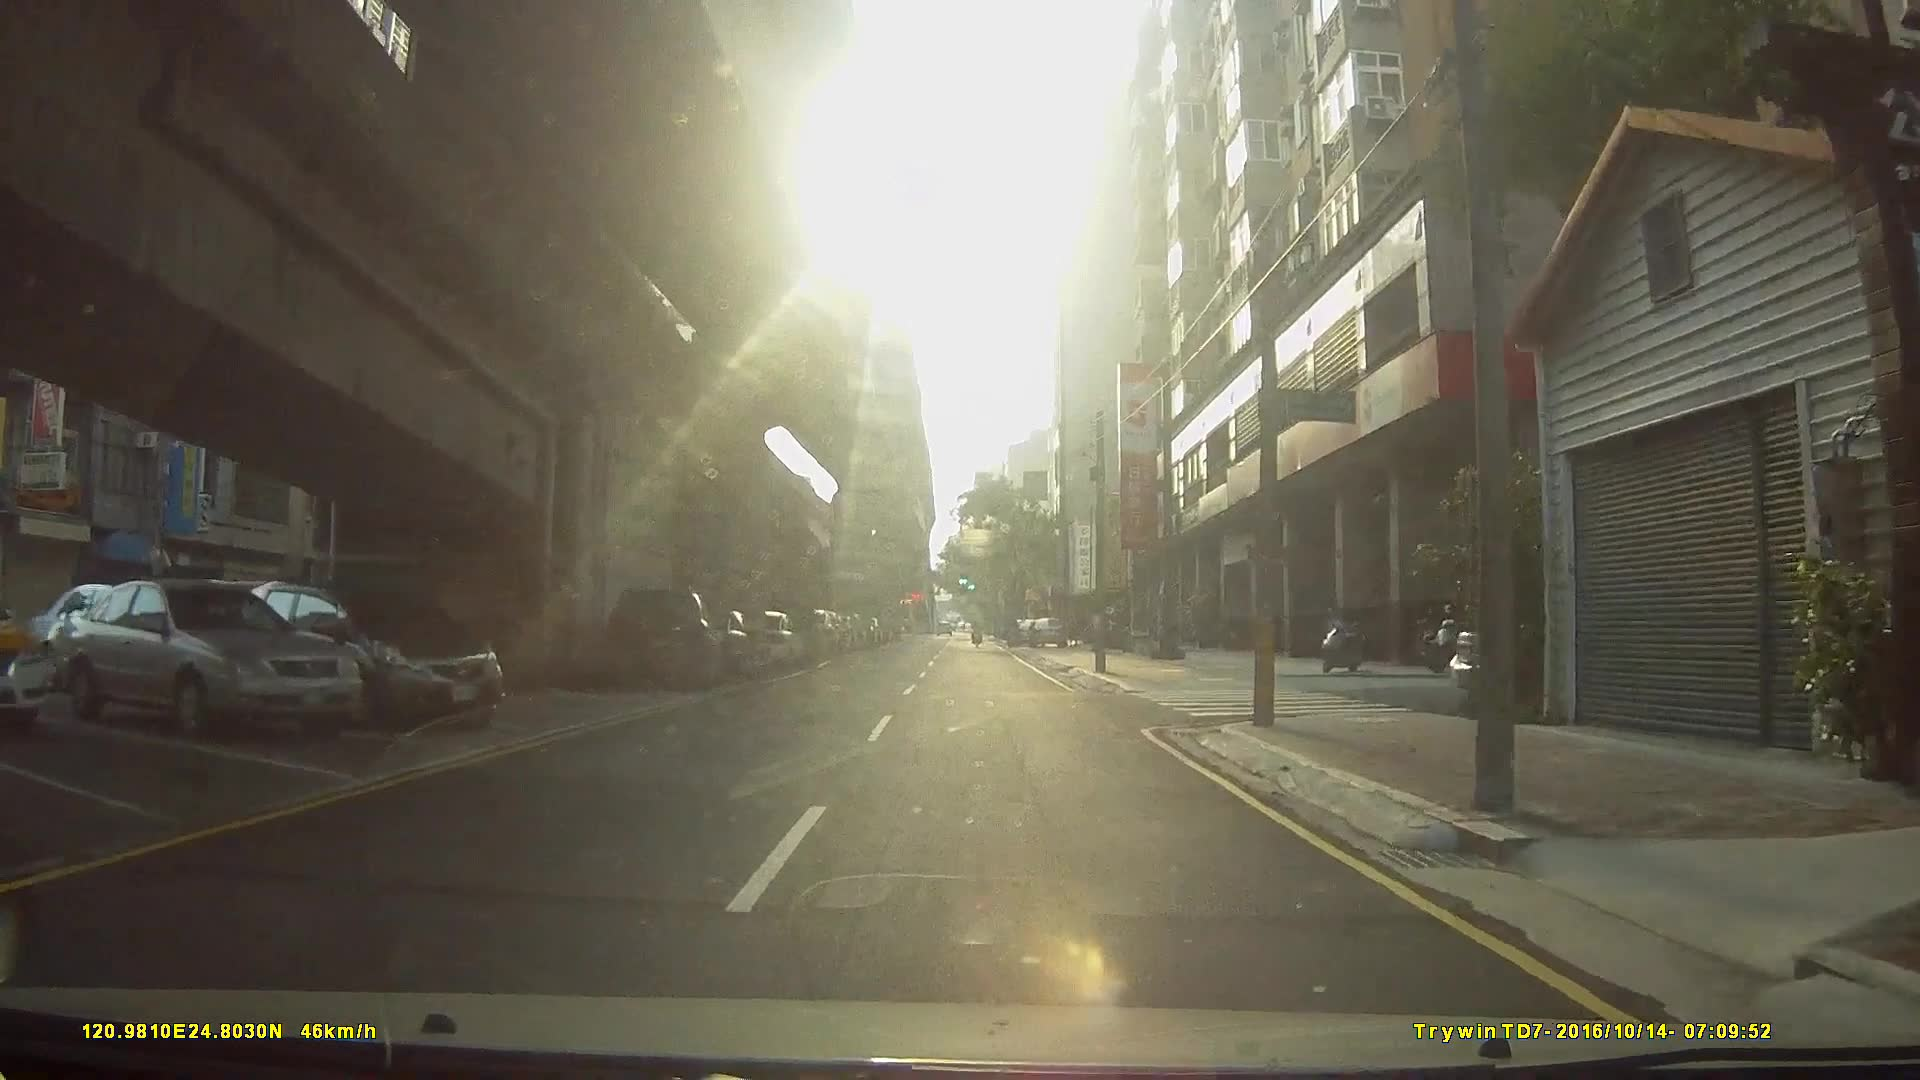vehicle: (55, 583, 359, 744), (245, 579, 510, 733), (597, 588, 731, 694), (0, 604, 55, 731), (1029, 618, 1065, 651)
